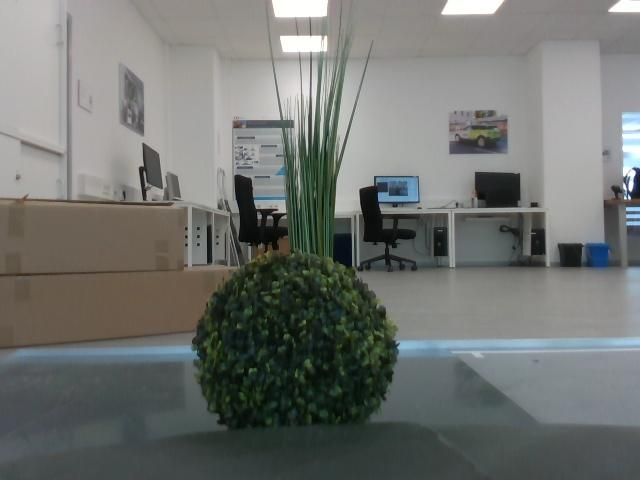potted plant: (192, 252, 402, 432), (260, 18, 381, 251)
